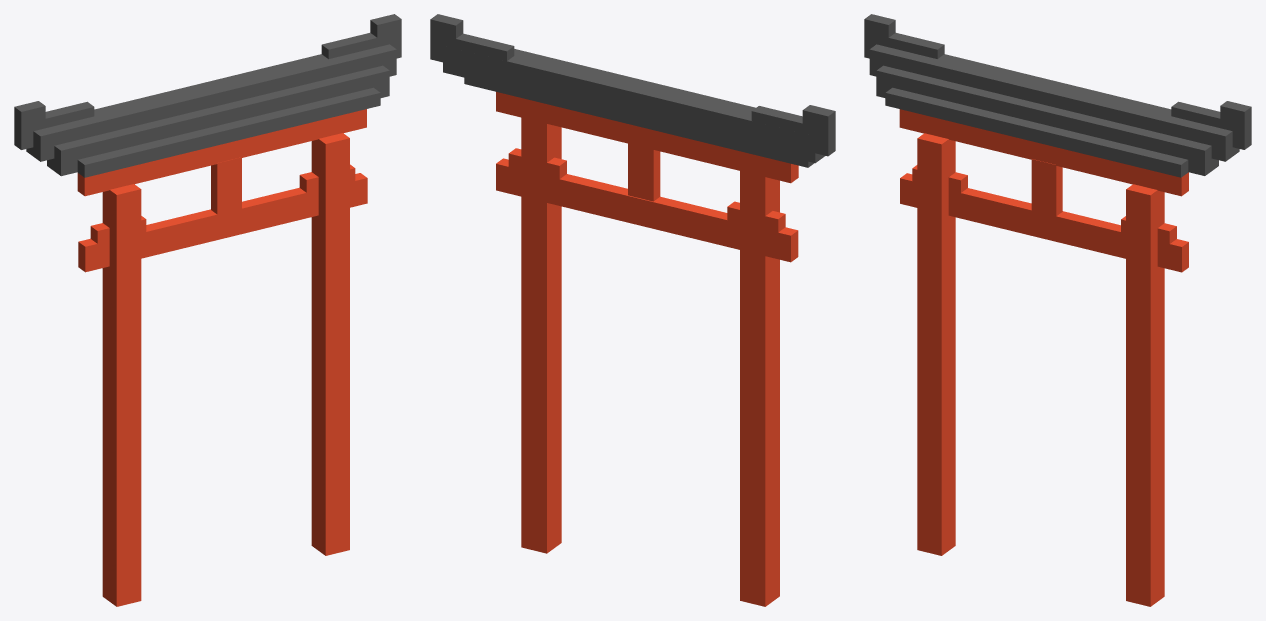
The model's file is Gate.FBX.
3 renders of one model, left to right at view 1: azimuth 30°, elevation 25°; view 2: azimuth 150°, elevation 25°; view 3: azimuth 330°, elevation 25°, orthographic. The views are drawn at different scales.
Parts seen in each view (by area): view 1: Gate; view 2: Gate; view 3: Gate.
Part boxes in pixels (x1,y1,x2,y2): Gate: (14,14,401,606); Gate: (430,14,835,606); Gate: (864,14,1251,606).
Bounding box in the file's own units: 62.4 × 78.01 × 8.04.
1 material, 1 textured.
